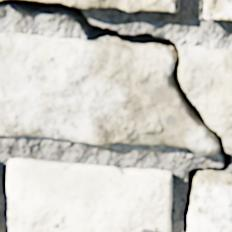brick: (8, 159, 172, 231), (187, 171, 231, 231), (26, 0, 179, 13), (204, 0, 231, 20)
broken_brick: (0, 33, 220, 155), (177, 46, 231, 154)
crack: (0, 0, 231, 231)
